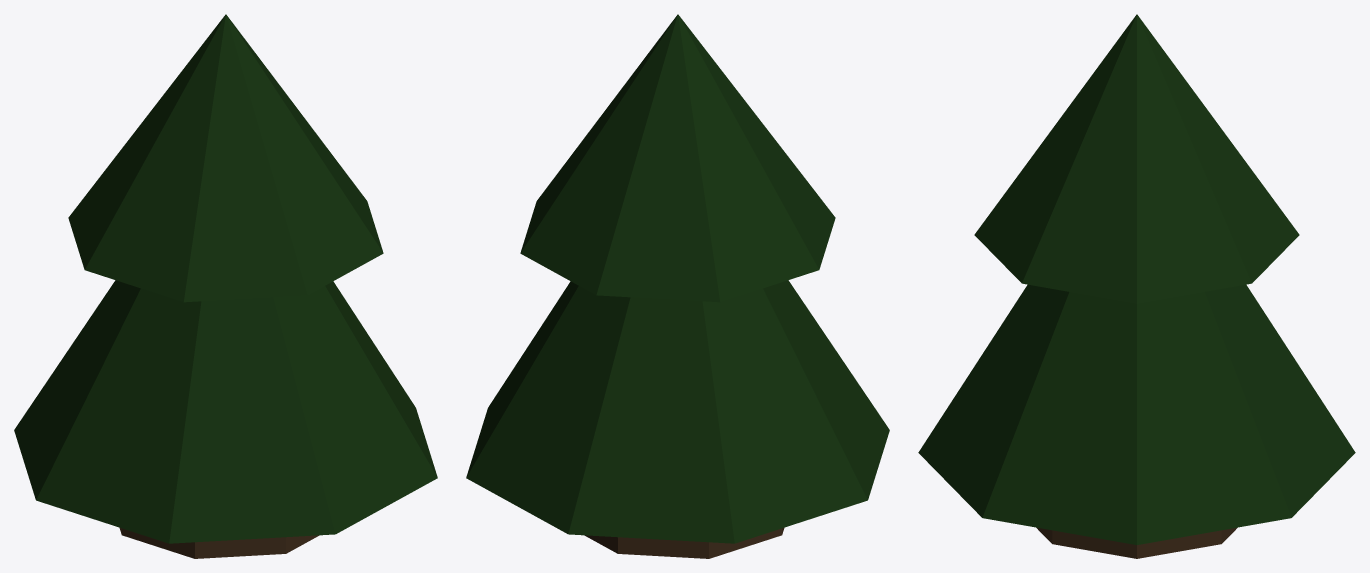
Rendered from Tree.fbx.
3 renders of one model, left to right at view 1: azimuth 30°, elevation 25°; view 2: azimuth 150°, elevation 25°; view 3: azimuth 270°, elevation 25°, orthographic.
Visible parts, largest first — view 1: Tree; view 2: Tree; view 3: Tree.
Boxes of the visible parts, left/top/right/bottom form: Tree: left=14, top=14, right=437, bottom=558; Tree: left=466, top=14, right=889, bottom=558; Tree: left=918, top=14, right=1355, bottom=558.
Bounding box in the file's own units: 109 × 136 × 109.
